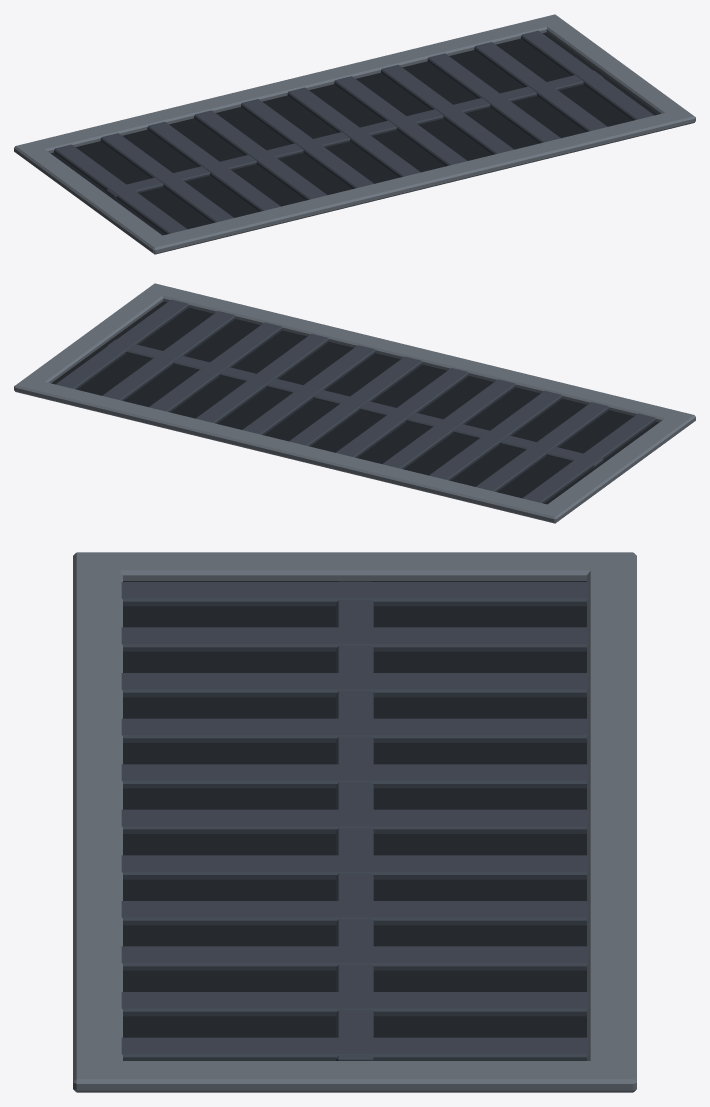
File: grelha_boca_lobo.glb
3 renders of one model, top to bottom at view 1: azimuth 30°, elevation 25°; view 2: azimuth 150°, elevation 25°; view 3: azimuth 270°, elevation 25°, orthographic. The views are drawn at different scales.
Parts seen in each view (by area): view 1: grelha_boca_lobo; view 2: grelha_boca_lobo; view 3: grelha_boca_lobo.
Boxes of the visible parts, x1,y1,x2,y2 form: grelha_boca_lobo: (14,14,695,254); grelha_boca_lobo: (14,283,695,523); grelha_boca_lobo: (73,552,636,1092).
Size of the model in its own units: 1 by 0.012 by 0.45.
1 material, 1 textured.
